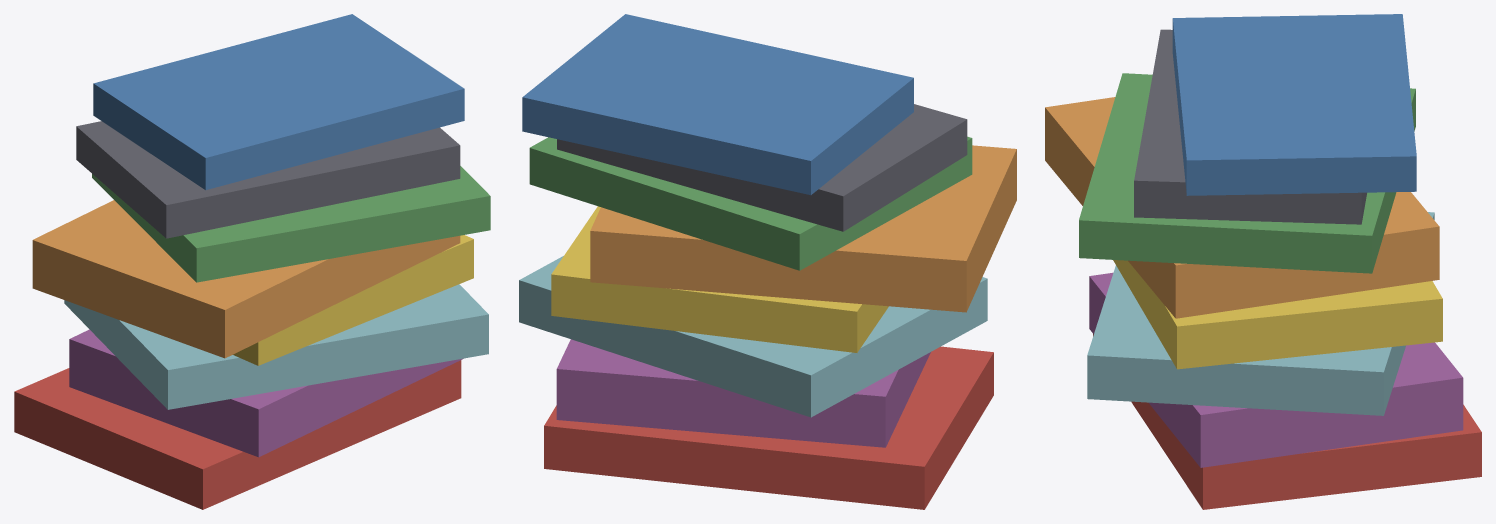
Rendered from book_stack_tall.glb.
The picture shows the model from 3 angles, left to right: view 1: azimuth 30°, elevation 25°; view 2: azimuth 150°, elevation 25°; view 3: azimuth 270°, elevation 25°; orthographic projection. The views are drawn at different scales.
Visible parts, largest first — view 1: book_stack_tall; view 2: book_stack_tall; view 3: book_stack_tall.
Boxes of the visible parts, left/top/right/bottom form: book_stack_tall: left=14, top=14, right=490, bottom=509; book_stack_tall: left=519, top=14, right=1016, bottom=509; book_stack_tall: left=1045, top=14, right=1481, bottom=509.
Size of the model in its own units: 0.259 by 0.202 by 0.2302.
